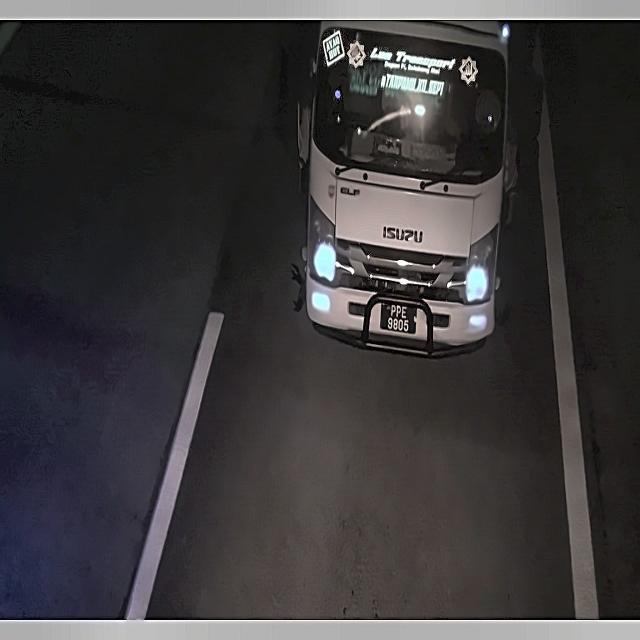car: (374, 296, 425, 339)
